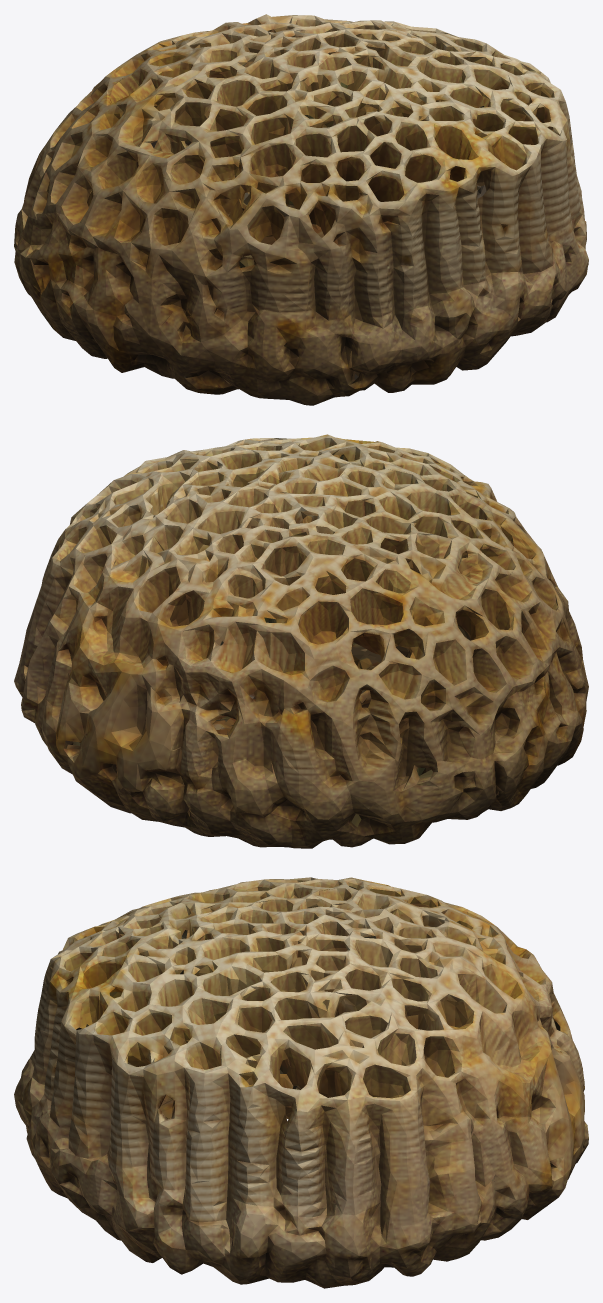
3 renders of one model, top to bottom at view 1: azimuth 30°, elevation 25°; view 2: azimuth 150°, elevation 25°; view 3: azimuth 270°, elevation 25°, orthographic. The views are drawn at different scales.
Visible parts, largest first — view 1: world; view 2: world; view 3: world.
Boxes of the visible parts, <box> form: world: <box>14,14,588,405</box>; world: <box>14,434,588,848</box>; world: <box>14,877,588,1288</box>.
Bounding box in the file's own units: 0.9997 × 0.4868 × 0.9553.
Materials: 1 (1 with a texture image).
